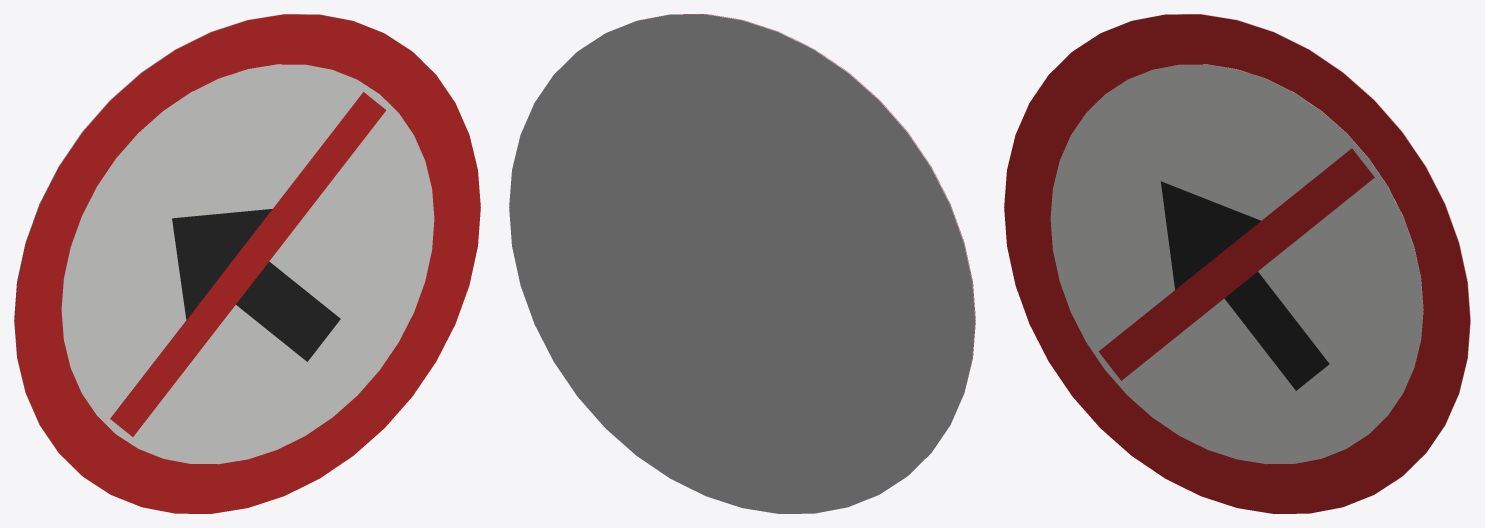
The picture shows the model from 3 angles, left to right: view 1: azimuth 30°, elevation 25°; view 2: azimuth 150°, elevation 25°; view 3: azimuth 330°, elevation 25°; orthographic projection.
Parts seen in each view (by area): view 1: B2_d01, B2_d00, B2_p03, B2_p02, B2_dos; view 2: B2_dos; view 3: B2_d01, B2_d00, B2_p03, B2_p02, B2_dos.
Part boxes in pixels (x1,y1,x2,y2): B2_d01: [61, 64, 434, 464]; B2_d00: [14, 14, 480, 513]; B2_p03: [110, 92, 386, 436]; B2_p02: [172, 209, 340, 361]; B2_dos: [14, 14, 383, 475]; B2_dos: [509, 14, 975, 513]; B2_d01: [1050, 64, 1423, 464]; B2_d00: [1004, 14, 1470, 513]; B2_p03: [1098, 148, 1374, 380]; B2_p02: [1160, 181, 1329, 390]; B2_dos: [1101, 14, 1470, 475].
Bounding box in the file's own units: 0.65 × 0.65 × 0.0029.
